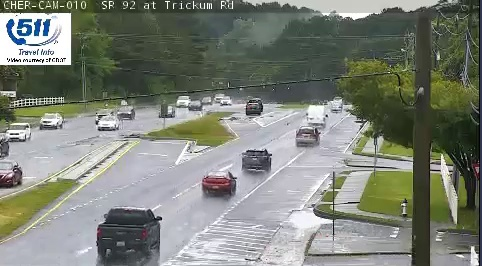car: (97, 209, 160, 252), (202, 172, 236, 194), (242, 149, 272, 170), (296, 127, 319, 146)
van: (307, 105, 326, 127)
